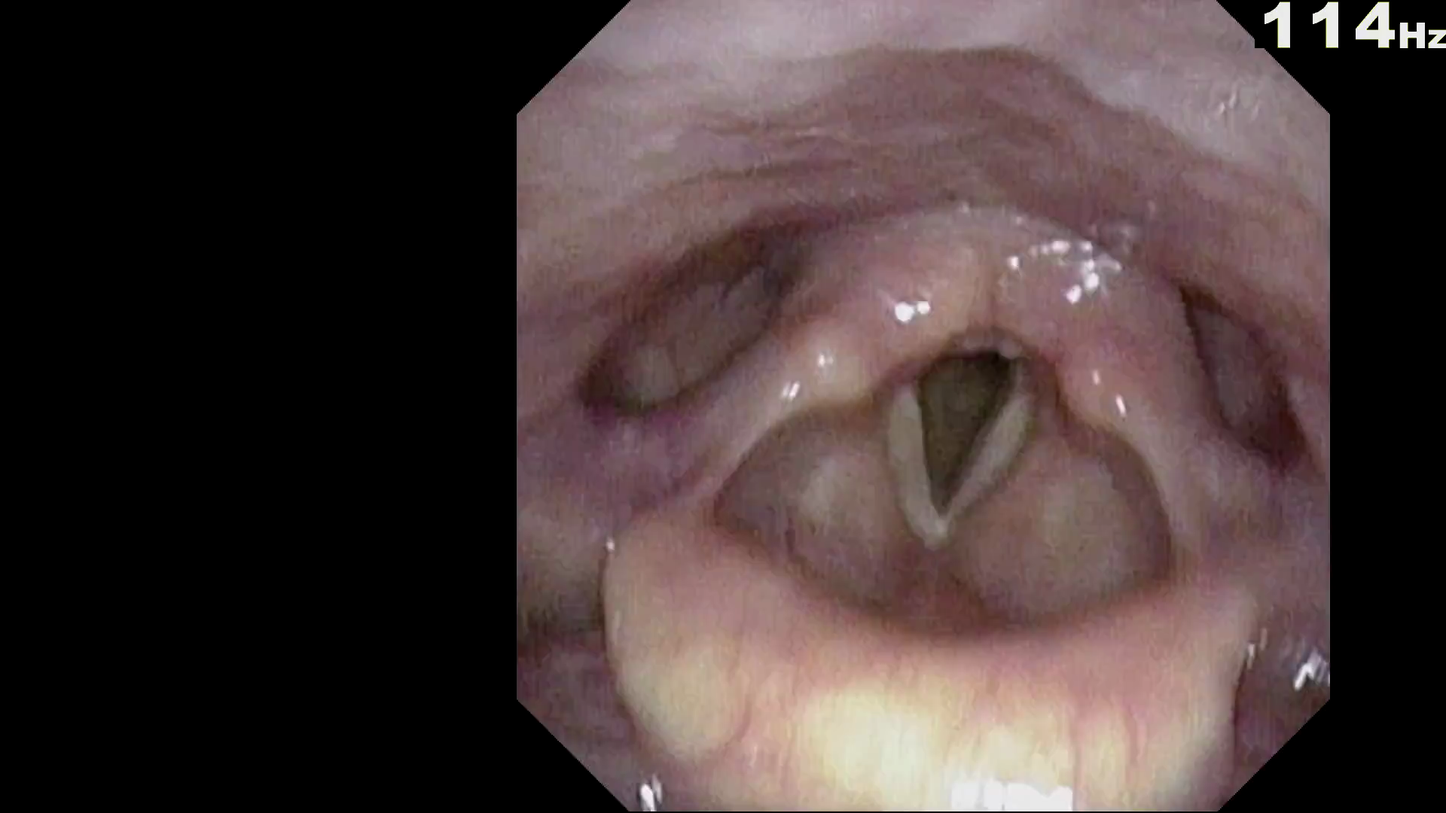epiglottis: (584, 468, 1273, 735)
trachea: (866, 334, 1044, 559)
